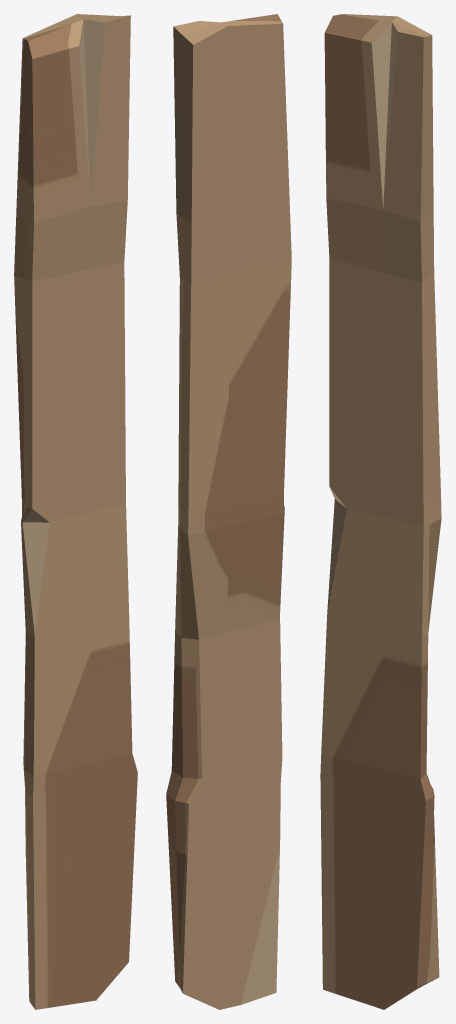
The model's file is SM_Wooden_Plank_A.fbx.
3 renders of one model, left to right at view 1: azimuth 30°, elevation 25°; view 2: azimuth 210°, elevation 25°; view 3: azimuth 330°, elevation 25°, orthographic.
Parts seen in each view (by area): view 1: SM_Wooden_Plank_A; view 2: SM_Wooden_Plank_A; view 3: SM_Wooden_Plank_A.
Boxes of the visible parts, x1,y1,x2,y2 form: SM_Wooden_Plank_A: (14, 14, 137, 1009); SM_Wooden_Plank_A: (166, 14, 291, 1009); SM_Wooden_Plank_A: (320, 14, 441, 1009).
Size of the model in its own units: 23.06 by 200 by 6.88.
